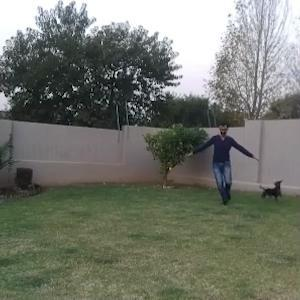land: (173, 115, 250, 206)
